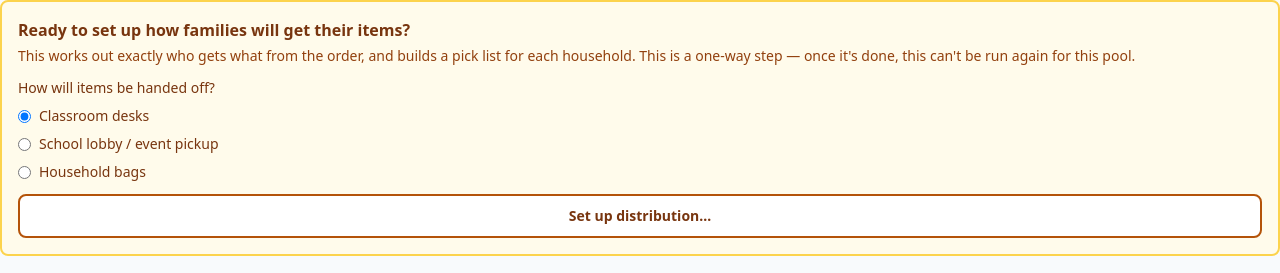
Test case: GenerateDistributionAction › cancelling the confirm step backs out without calling the API
Click the button "Set up distribution…" at (640, 216), box 18,194 -> 1262,238
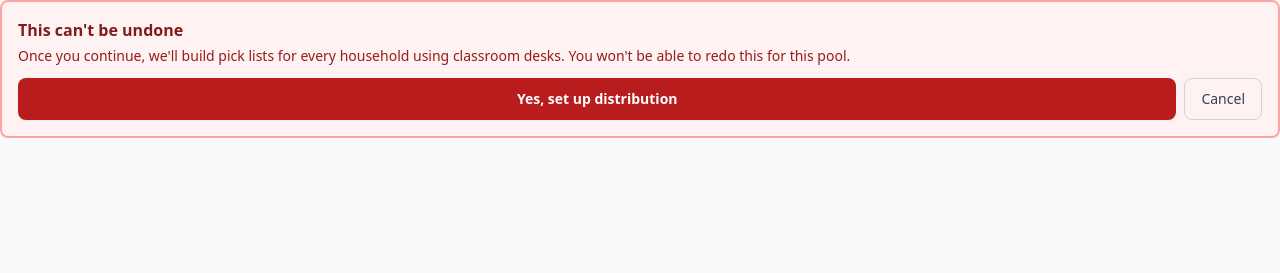
Click the button "Cancel" at (1223, 99), box 1184,78 -> 1262,120
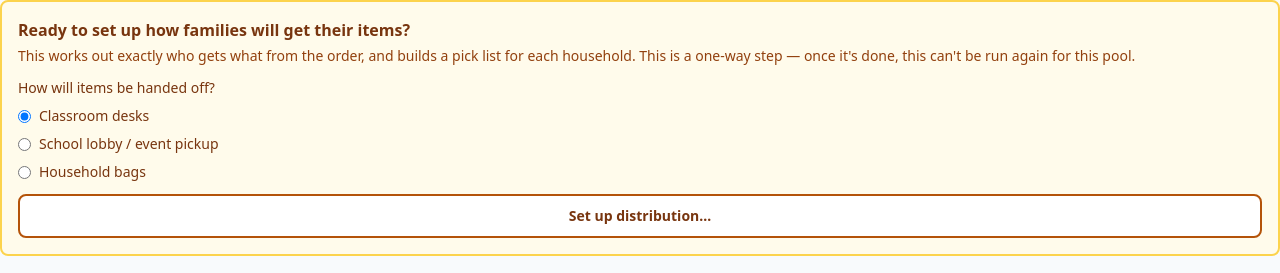
Expected: the button "Set up distribution…" is shown, 18,194 -> 1262,238
